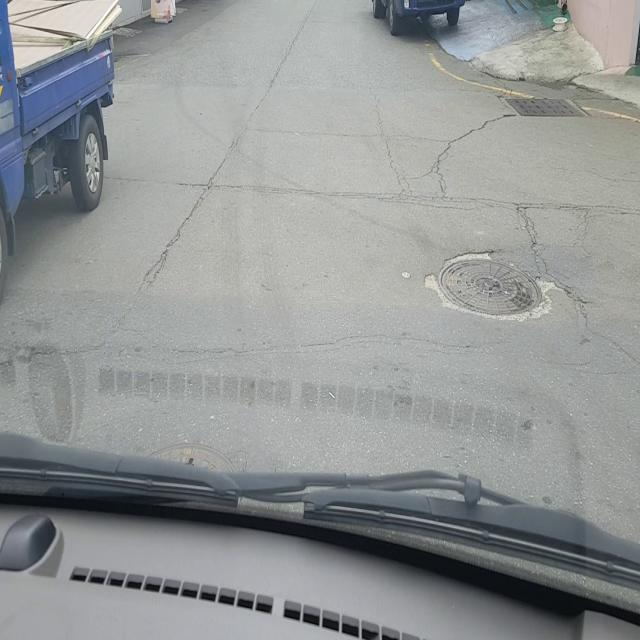Pothole: (423, 249, 568, 325)
